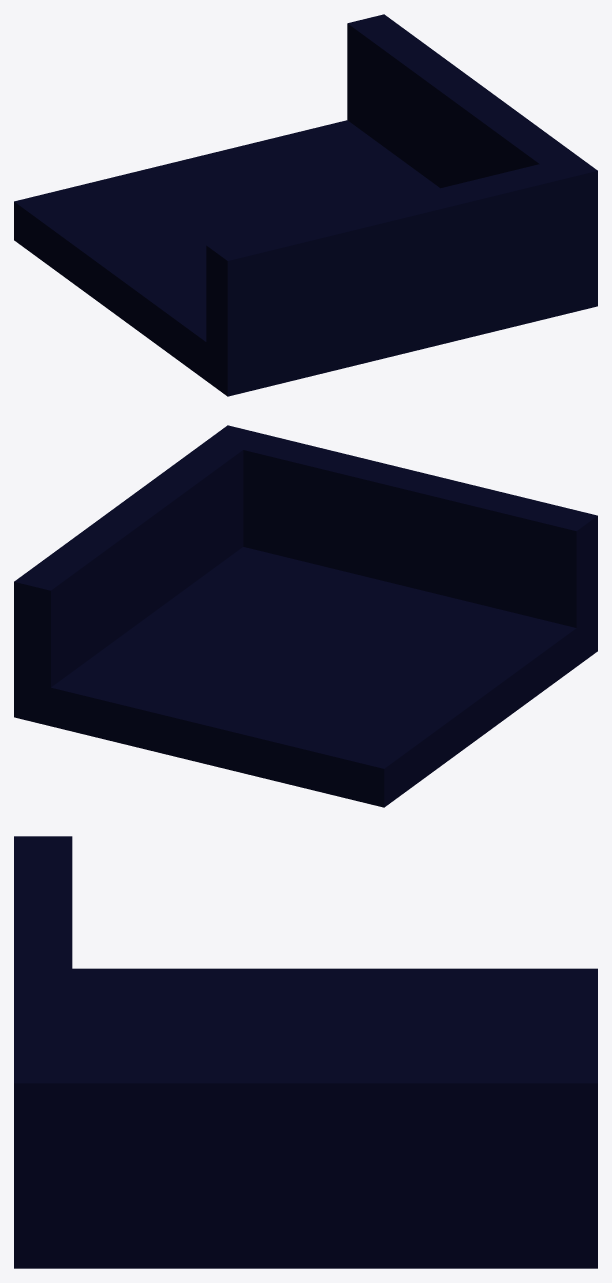
File: NavyRoof_Corner_small.glb
The picture shows the model from 3 angles, top to bottom: view 1: azimuth 30°, elevation 25°; view 2: azimuth 150°, elevation 25°; view 3: azimuth 270°, elevation 25°; orthographic projection. The views are drawn at different scales.
Parts seen in each view (by area): view 1: roof_flat_corner_small_navy; view 2: roof_flat_corner_small_navy; view 3: roof_flat_corner_small_navy.
Part boxes in pixels (<box>): roof_flat_corner_small_navy: <box>14,14,597,396</box>; roof_flat_corner_small_navy: <box>14,425,597,807</box>; roof_flat_corner_small_navy: <box>14,836,597,1268</box>.
Size of what is drawn, in the model's own units: 2 by 0.7 by 2.
1 material, 1 textured.
